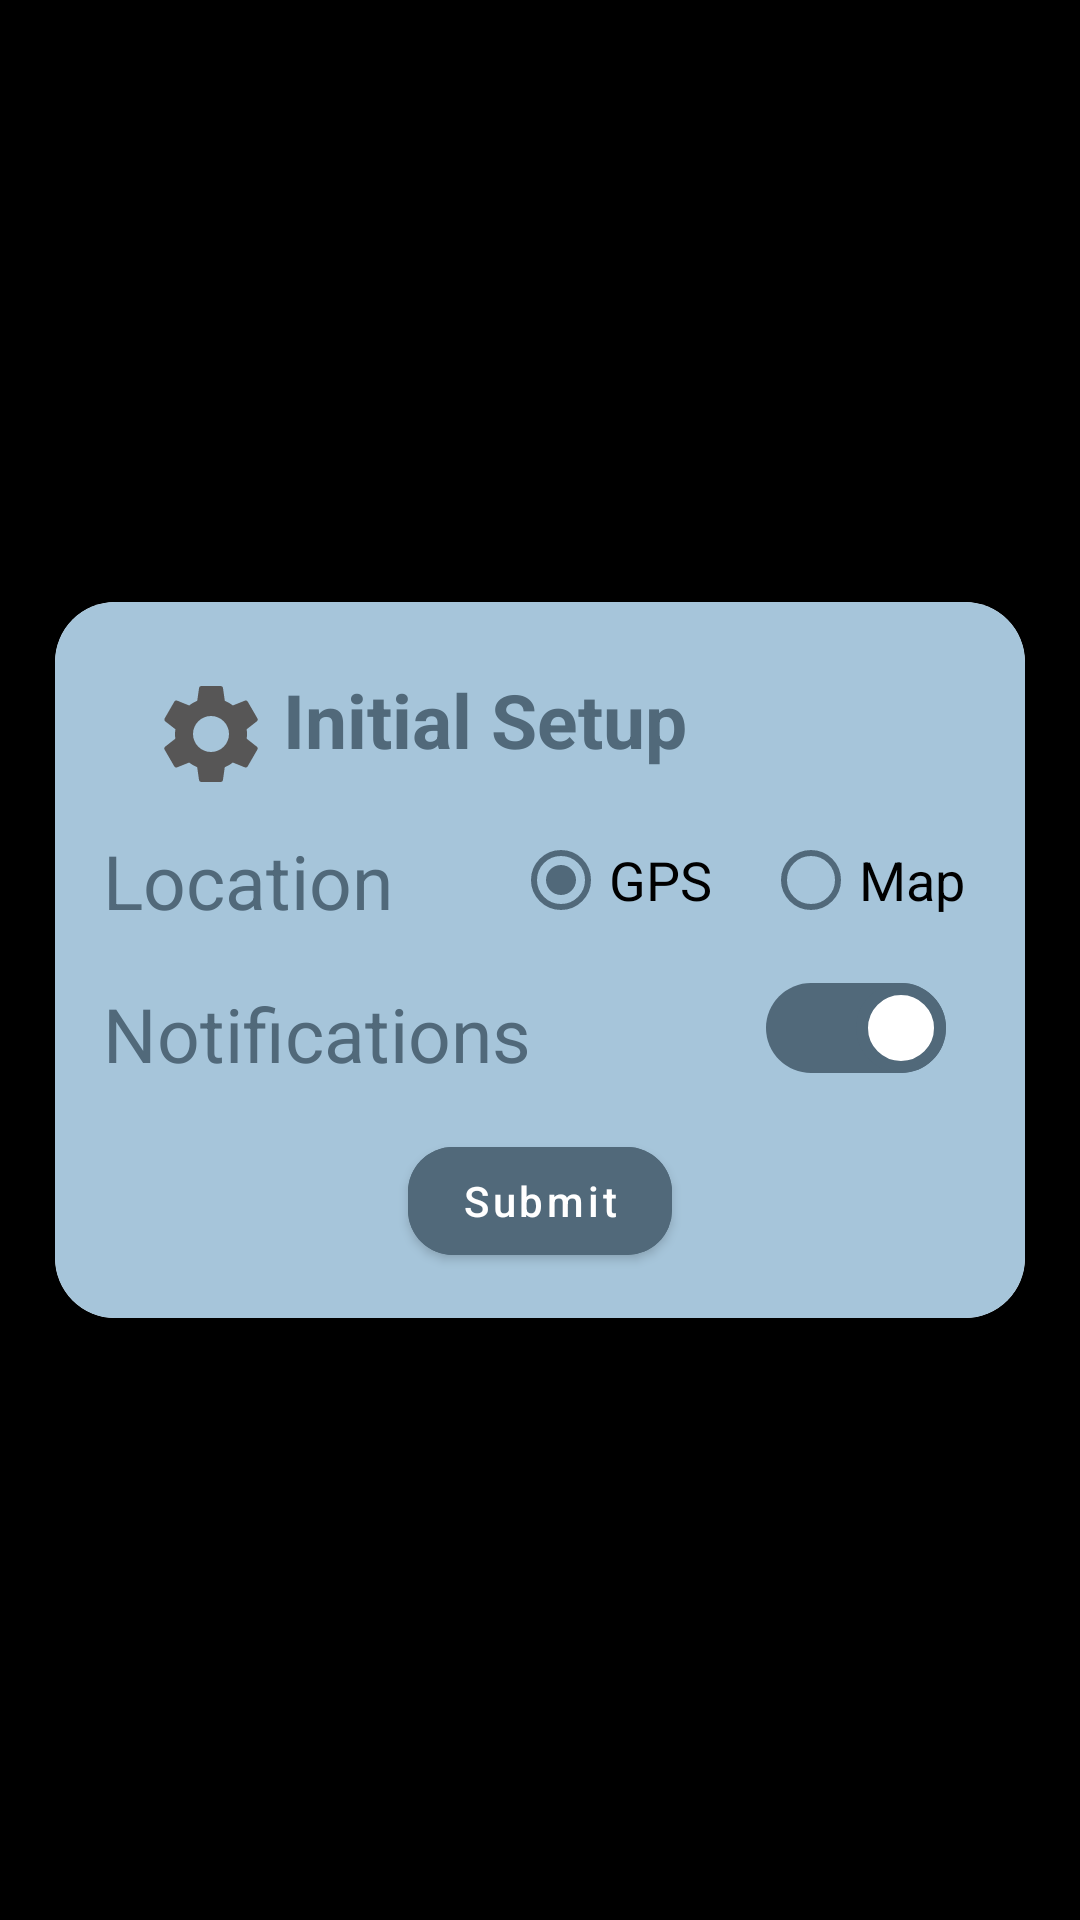

Locate icon controls on the screen. Image size 1080px x 1920px, boxes as rect(x1, y1, x2, y2).
settings: rect(164, 686, 258, 782)
